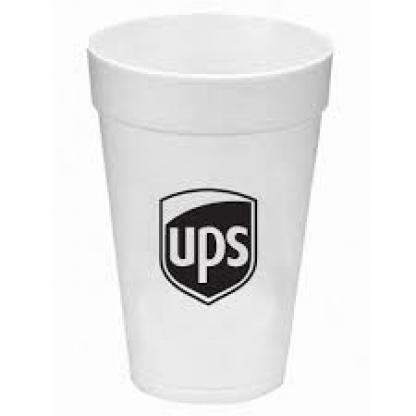paper: (83, 9, 331, 401)
